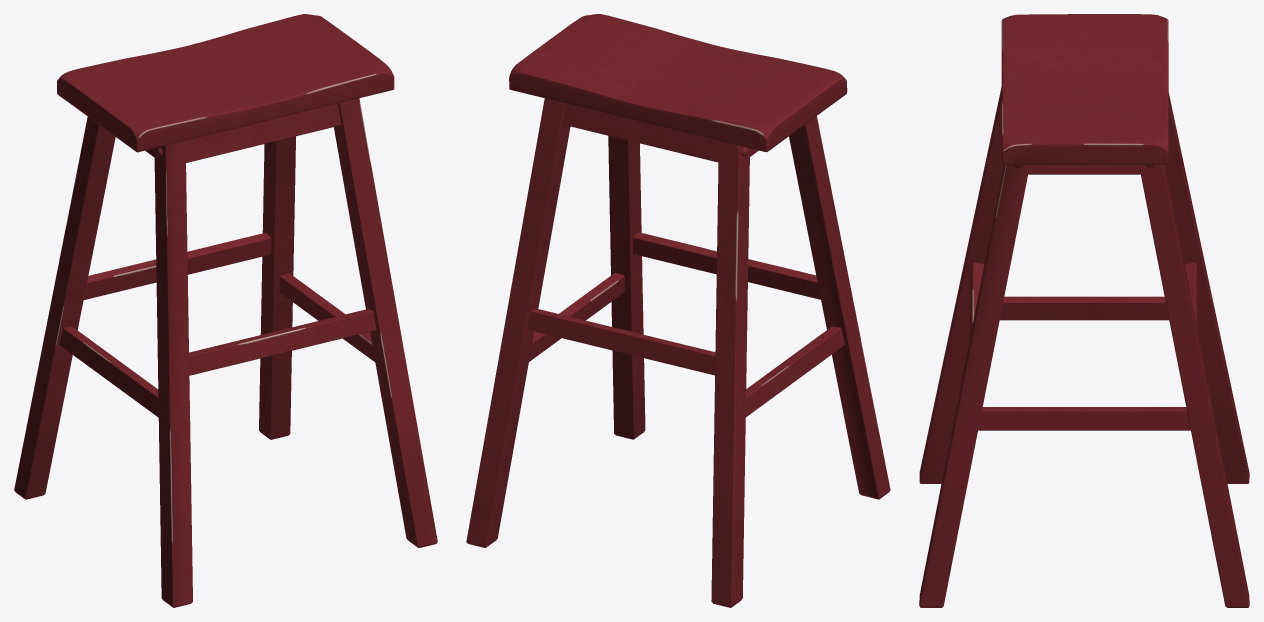
Rendered from bar_stool_abo_B07B7B94NC.glb.
3 views of the same model, side by side, from view 1: azimuth 30°, elevation 25°; view 2: azimuth 150°, elevation 25°; view 3: azimuth 270°, elevation 25° (orthographic). The views are drawn at different scales.
Parts seen in each view (by area): view 1: RootNode; view 2: RootNode; view 3: RootNode.
Part boxes in pixels (bbox=[...]): RootNode: bbox=[14, 14, 437, 607]; RootNode: bbox=[466, 14, 890, 607]; RootNode: bbox=[919, 14, 1249, 607].
Size of the model in its own units: 0.4575 by 0.7366 by 0.4759.
Materials: 1 (1 with a texture image).
